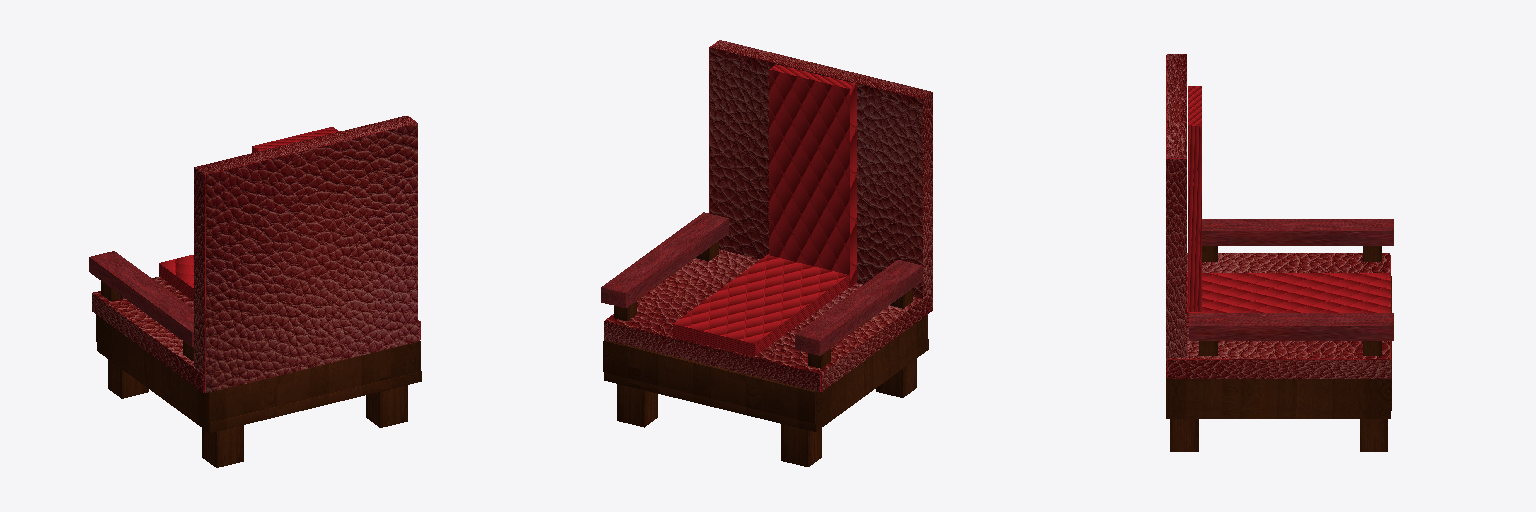
The picture shows the model from 3 angles: view 1: azimuth 30°, elevation 25°; view 2: azimuth 150°, elevation 25°; view 3: azimuth 270°, elevation 25°; orthographic projection.
Parts seen in each view (by area): view 1: pCube15; view 2: pCube15; view 3: pCube15.
Boxes of the visible parts, box(x1,y1,x2,y2) form: pCube15: box(89, 116, 421, 467); pCube15: box(601, 40, 932, 466); pCube15: box(1166, 54, 1393, 451).
Bounding box in the file's own units: 2.67 × 3.48 × 2.42.
4 materials, 4 textured.